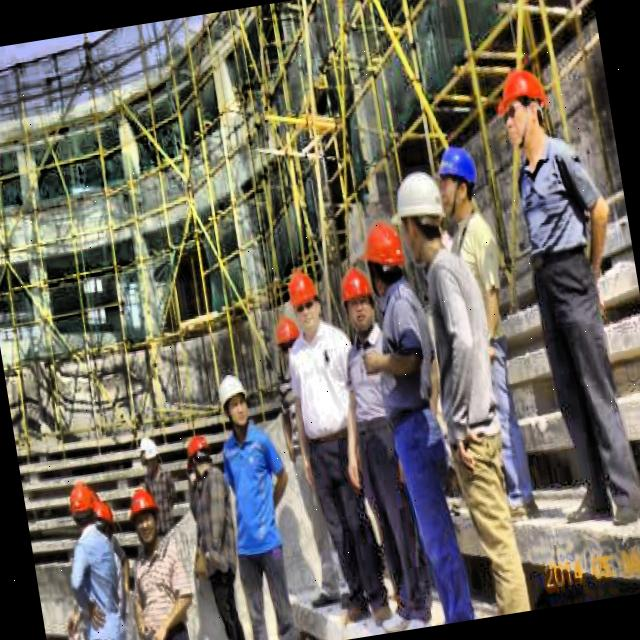helmet: (391, 170, 454, 266), (494, 63, 558, 157), (354, 217, 412, 301), (434, 144, 487, 228), (334, 262, 382, 337), (214, 368, 262, 438), (284, 266, 328, 342), (122, 479, 163, 554), (66, 477, 102, 536), (270, 314, 306, 373), (186, 432, 216, 483), (142, 439, 166, 476)
